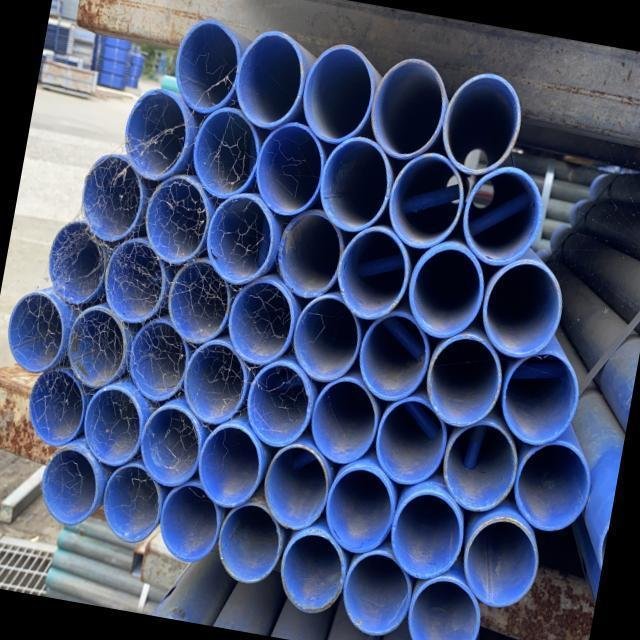pipe: (474, 250, 570, 364), (434, 66, 528, 182), (455, 159, 549, 272), (493, 341, 586, 452), (363, 51, 451, 166), (400, 234, 491, 345), (381, 145, 470, 255), (418, 327, 509, 433), (455, 508, 546, 614), (295, 38, 381, 150), (227, 23, 312, 136), (506, 434, 597, 539), (312, 130, 398, 237), (436, 413, 524, 517), (330, 221, 415, 327), (383, 484, 470, 584), (351, 305, 436, 407), (249, 116, 331, 221), (369, 390, 453, 491), (185, 100, 266, 203), (319, 458, 402, 558), (198, 187, 280, 288), (285, 288, 367, 388), (335, 543, 419, 640), (168, 14, 246, 118), (270, 203, 350, 304), (118, 84, 197, 186), (304, 371, 384, 469), (241, 355, 320, 453), (138, 169, 215, 269), (222, 273, 301, 370), (257, 438, 335, 536), (273, 524, 352, 618), (191, 418, 269, 512), (177, 334, 254, 429), (161, 253, 237, 347), (74, 150, 149, 245), (212, 495, 288, 588), (41, 214, 114, 310), (97, 233, 171, 327), (134, 399, 208, 490), (153, 477, 227, 566), (76, 381, 149, 471), (122, 314, 194, 405), (60, 301, 132, 392), (96, 458, 168, 547), (35, 440, 105, 530), (1, 286, 70, 376), (400, 570, 487, 640), (21, 362, 90, 449)
